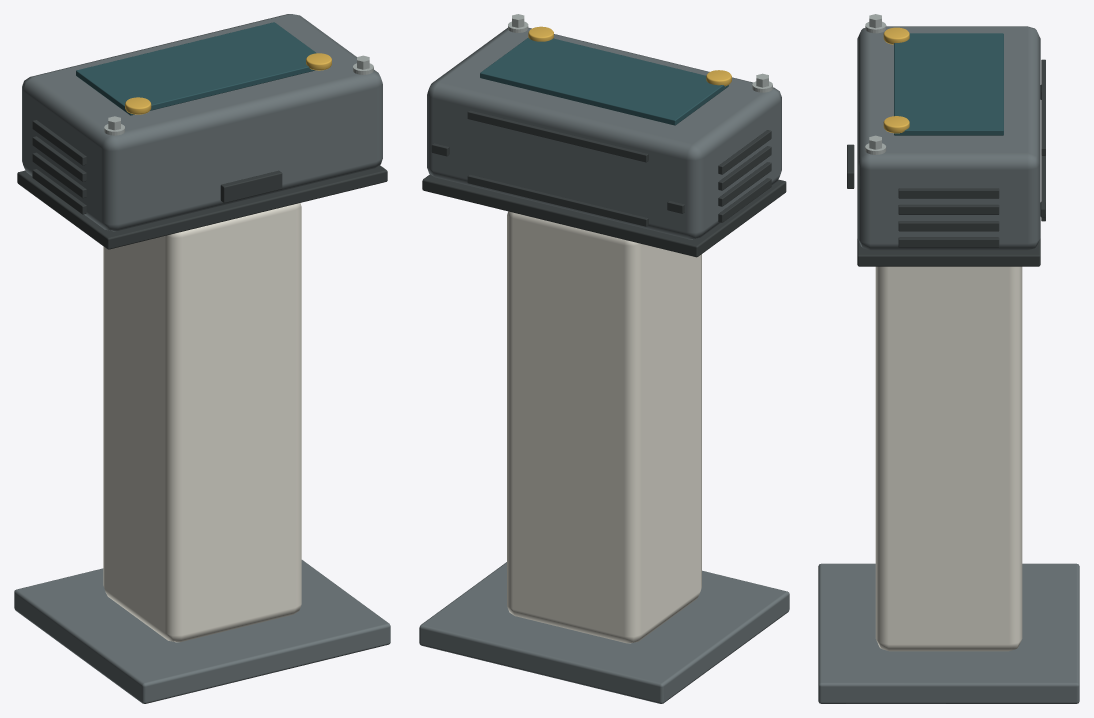
File: automated-parking-and-vehicle-retrieval-automated-park-a92230ea__30350.glb
3 views of the same model, side by side, from view 1: azimuth 30°, elevation 25°; view 2: azimuth 150°, elevation 25°; view 3: azimuth 270°, elevation 25° (orthographic).
Visible parts, largest first — view 1: automated-parking-and-vehicle-retrieval-retrieval-terminal; view 2: automated-parking-and-vehicle-retrieval-retrieval-terminal; view 3: automated-parking-and-vehicle-retrieval-retrieval-terminal.
Part boxes in pixels (x1=…): automated-parking-and-vehicle-retrieval-retrieval-terminal: x1=14, y1=14, x2=390, y2=703; automated-parking-and-vehicle-retrieval-retrieval-terminal: x1=419, y1=14, x2=789, y2=703; automated-parking-and-vehicle-retrieval-retrieval-terminal: x1=818, y1=14, x2=1079, y2=703.
Size of the model in its own units: 0.642 by 1.2 by 0.4999.
